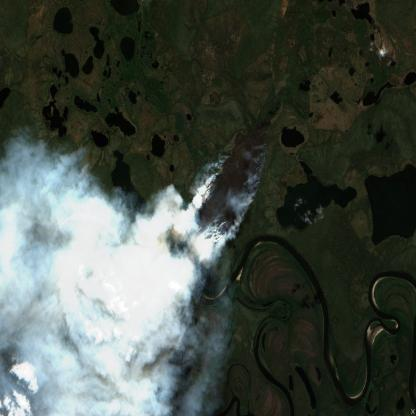fire: (172, 120, 271, 267)
